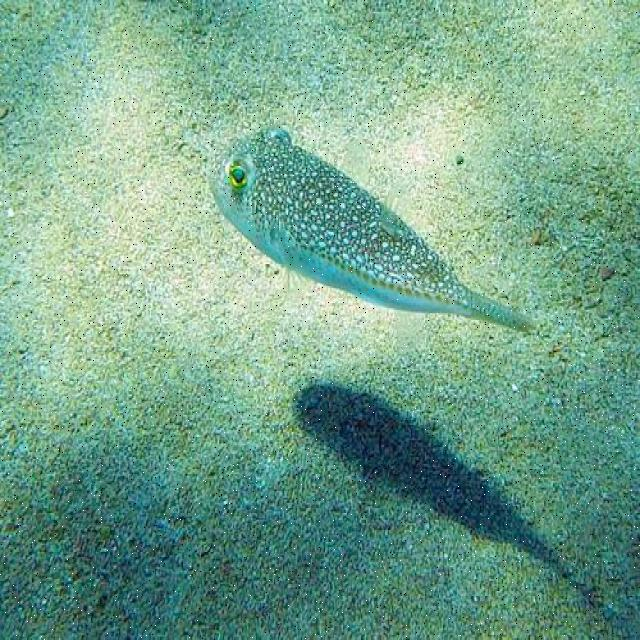Balik: (212, 129, 531, 330)
